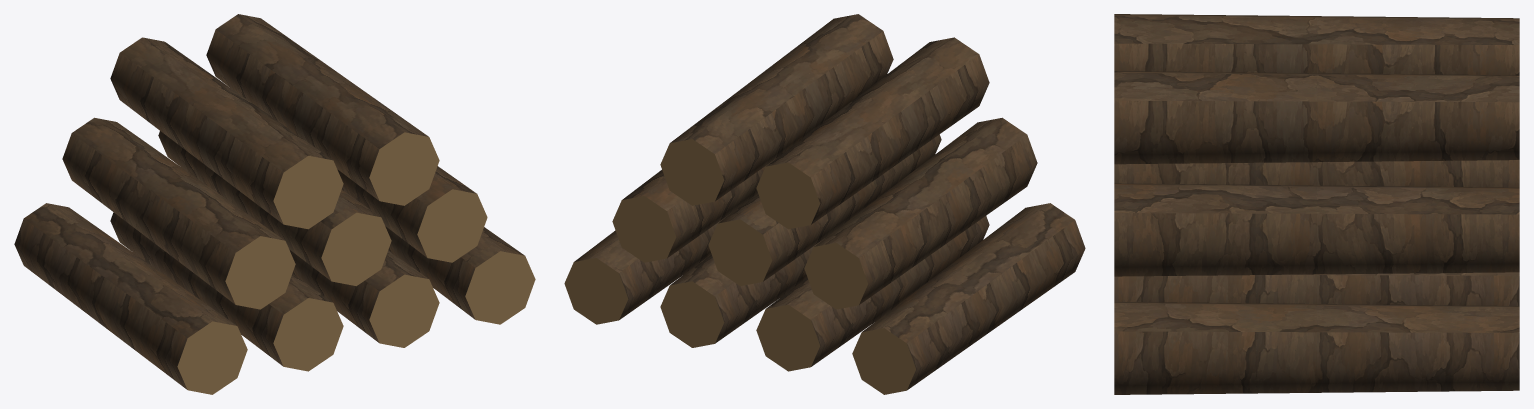
3 renders of one model, left to right at view 1: azimuth 30°, elevation 25°; view 2: azimuth 150°, elevation 25°; view 3: azimuth 270°, elevation 25°, orthographic. The views are drawn at different scales.
Parts seen in each view (by area): view 1: Stacked firewood; view 2: Stacked firewood; view 3: Stacked firewood.
Boxes of the visible parts, x1,y1,x2,y2 form: Stacked firewood: (14,14,535,394); Stacked firewood: (564,14,1085,394); Stacked firewood: (1114,14,1519,394).
Bounding box in the file's own units: 2.24 × 1.29 × 1.8.
Materials: 2 (1 with a texture image).
